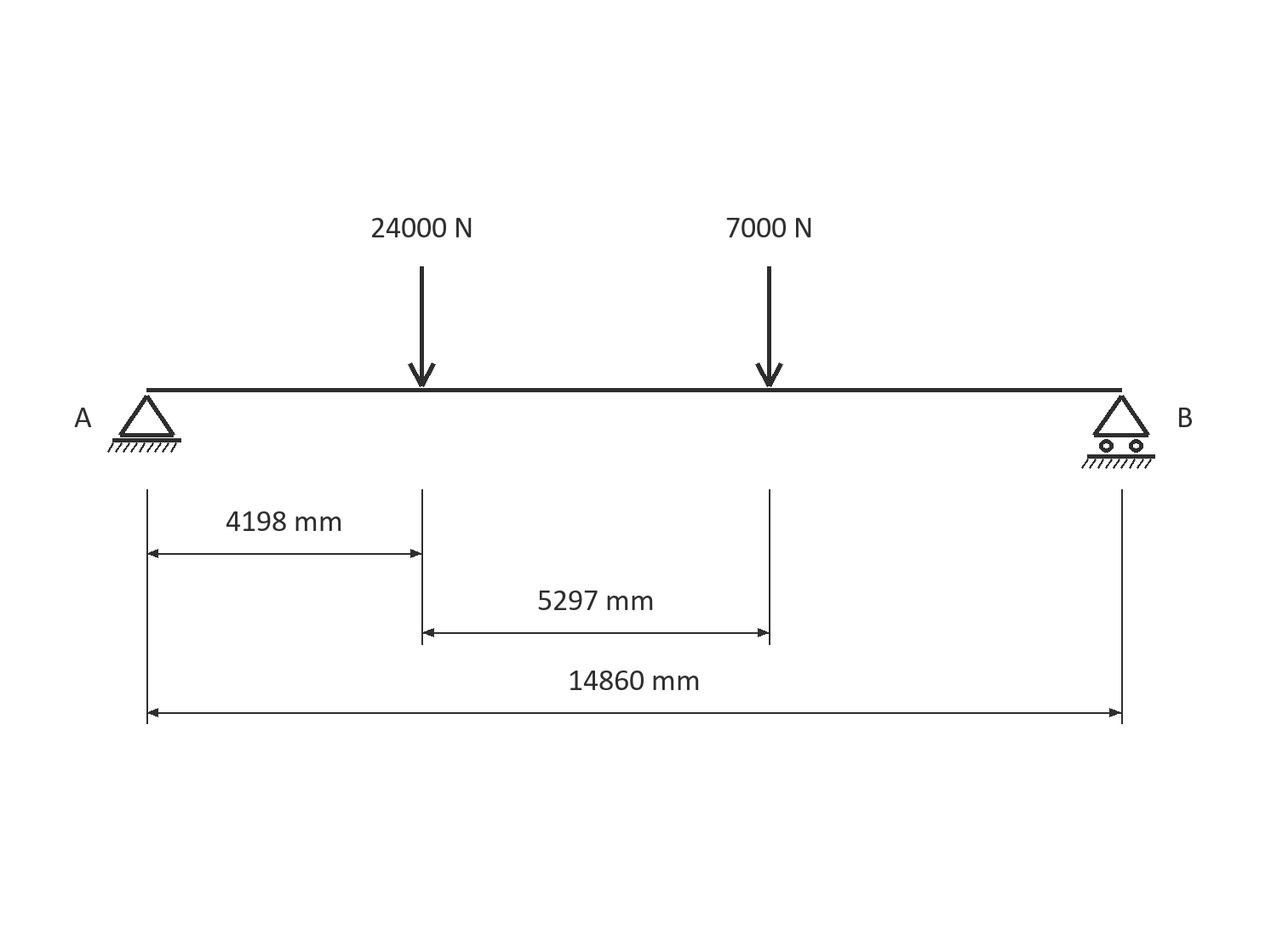pin_support: (107, 395, 181, 453)
point_load: (408, 266, 436, 387), (755, 266, 783, 387)
roller_support: (1081, 395, 1155, 469)
